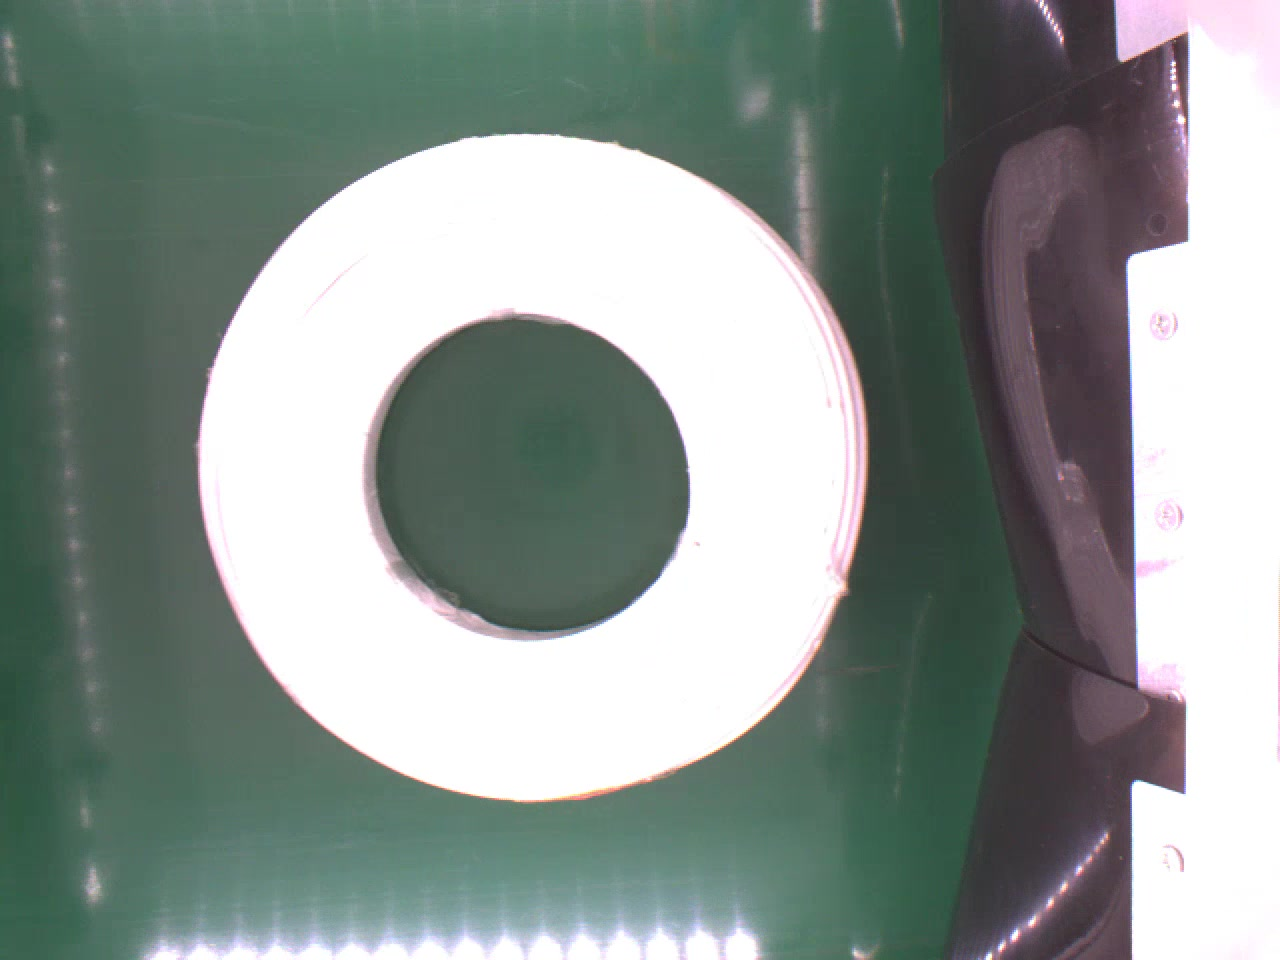white: (191, 126, 879, 813)
